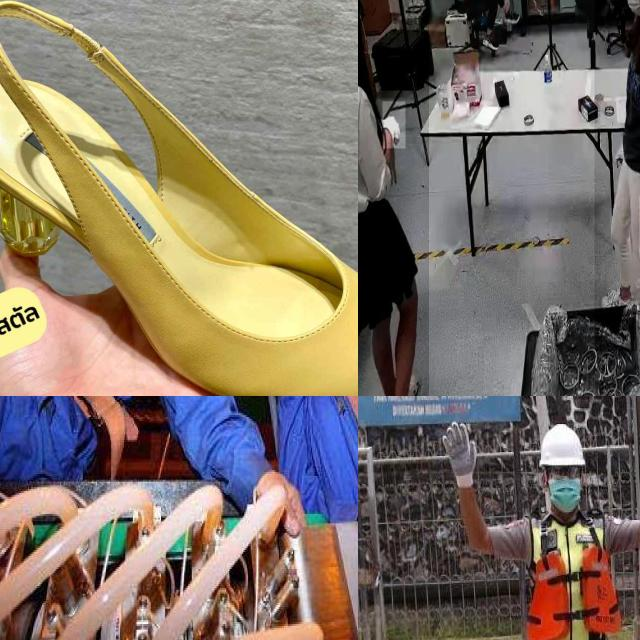Sandals: (0, 0, 358, 396)
face_mask: (621, 0, 640, 18)
hand_glove: (382, 102, 406, 148)
head_helmet: (538, 423, 585, 473)
person: (415, 407, 640, 640), (358, 0, 429, 396), (594, 0, 640, 351), (450, 0, 531, 63)
vest: (528, 519, 623, 640)
